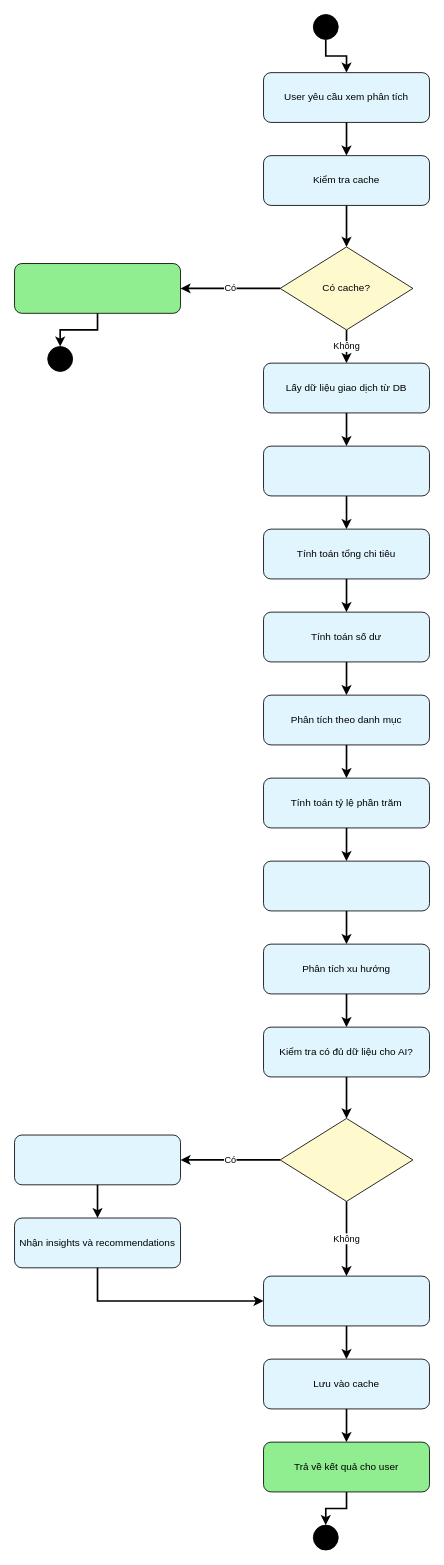
Image size: 444x1565. Some labels were removed from this diagram. Here are the shapes that lost their labels. From the top down, the centre of each, then its label:
At (97,288): "Trả về dữ liệu từ cache".
At (346,470): "Tính toán tổng thu nhập".
At (346,885): "Tính toán financial health score".
At (97,1159): "Gọi AI Service phân tích".
At (346,1159): "Có đủ dữ liệu?".
At (346,1300): "Tổng hợp kết quả".
